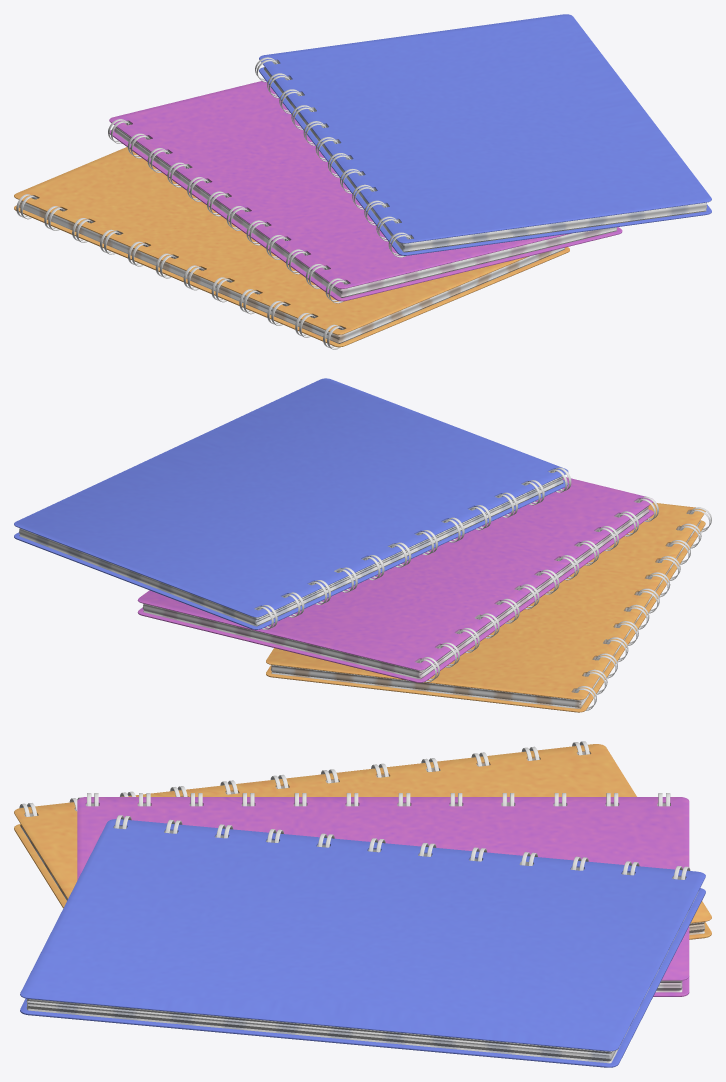
The picture shows the model from 3 angles, top to bottom: view 1: azimuth 30°, elevation 25°; view 2: azimuth 150°, elevation 25°; view 3: azimuth 270°, elevation 25°; orthographic projection. The views are drawn at different scales.
Parts seen in each view (by area): view 1: BlueCopybook_ModelMain_0, PinkCopybook_ModelMain_1, OrangeCopybook_ModelMain_2; view 2: BlueCopybook_ModelMain_0, PinkCopybook_ModelMain_1, OrangeCopybook_ModelMain_2; view 3: BlueCopybook_ModelMain_0, PinkCopybook_ModelMain_1, OrangeCopybook_ModelMain_2.
Boxes of the visible parts, x1,y1,x2,y2 form: BlueCopybook_ModelMain_0: (255, 14, 711, 257); PinkCopybook_ModelMain_1: (108, 80, 622, 303); OrangeCopybook_ModelMain_2: (14, 147, 569, 349); BlueCopybook_ModelMain_0: (14, 378, 571, 629); PinkCopybook_ModelMain_1: (137, 477, 658, 682); OrangeCopybook_ModelMain_2: (266, 502, 711, 712); BlueCopybook_ModelMain_0: (20, 815, 705, 1067); PinkCopybook_ModelMain_1: (77, 793, 689, 996); OrangeCopybook_ModelMain_2: (14, 741, 711, 939).
Bounding box in the file's own units: 0.9914 × 0.1043 × 0.806.
Materials: 3 (3 with a texture image).
